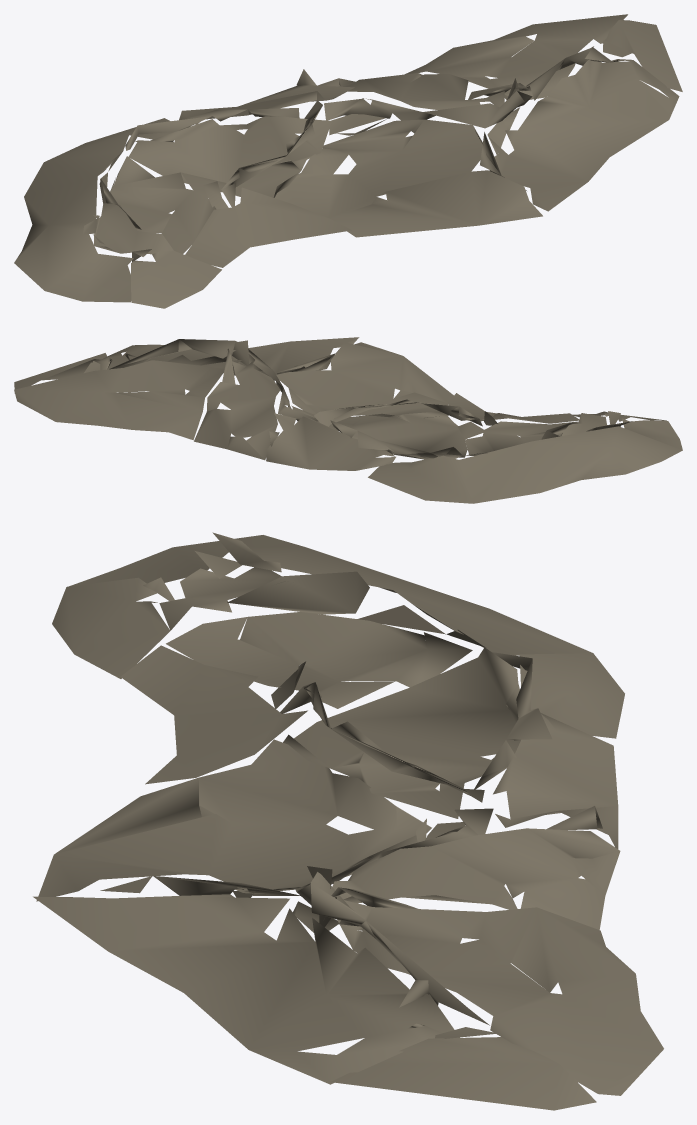
File: roots-lod1.glb
3 views of the same model, one above another, from view 1: azimuth 30°, elevation 25°; view 2: azimuth 150°, elevation 25°; view 3: azimuth 270°, elevation 25° (orthographic). The views are drawn at different scales.
Parts seen in each view (by area): view 1: roots; view 2: roots; view 3: roots.
Part boxes in pixels (x1,y1,x2,y2): roots: (14, 14, 682, 308); roots: (14, 337, 682, 503); roots: (33, 532, 663, 1110).
Size of the model in its own units: 1.75 by 0.1387 by 0.8345.
